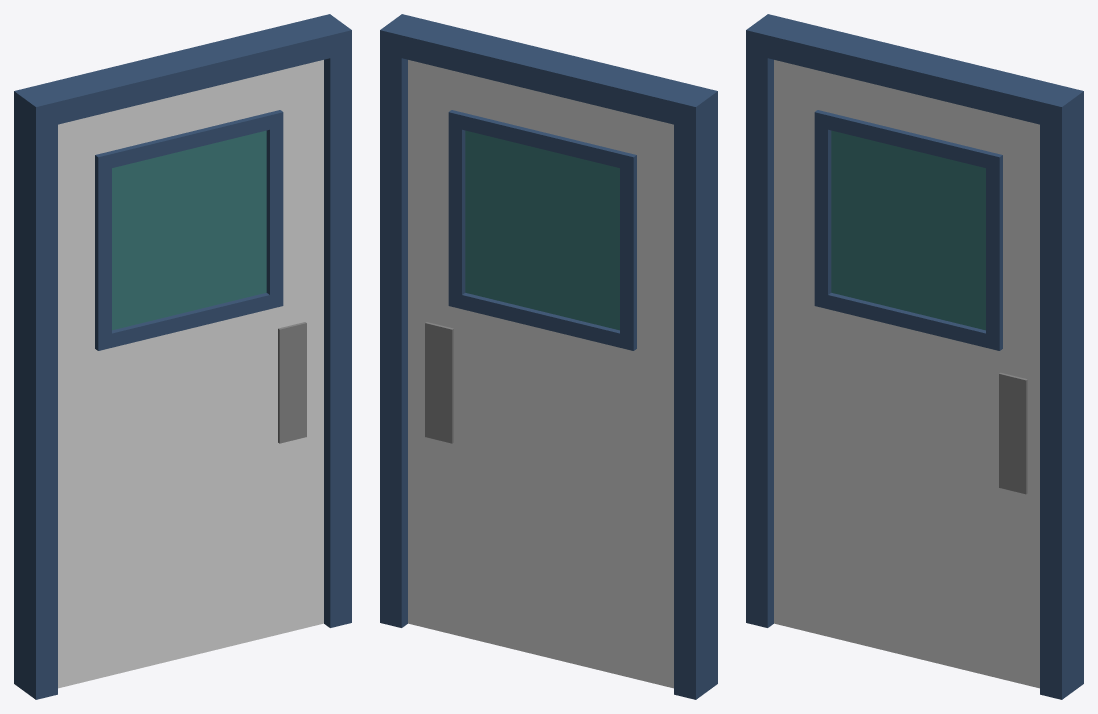
File: Door2.fbx
3 renders of one model, left to right at view 1: azimuth 30°, elevation 25°; view 2: azimuth 150°, elevation 25°; view 3: azimuth 330°, elevation 25°, orthographic.
Parts seen in each view (by area): view 1: pCube344, pCube340; view 2: pCube344, pCube340; view 3: pCube344, pCube340.
Part boxes in pixels (<box>): pCube344: <box>58,60,323,688</box>; pCube340: <box>14,14,351,699</box>; pCube344: <box>408,60,673,688</box>; pCube340: <box>380,14,717,699</box>; pCube344: <box>774,60,1039,688</box>; pCube340: <box>746,14,1083,699</box>.
Size of the model in its own units: 116 by 14 by 208.
